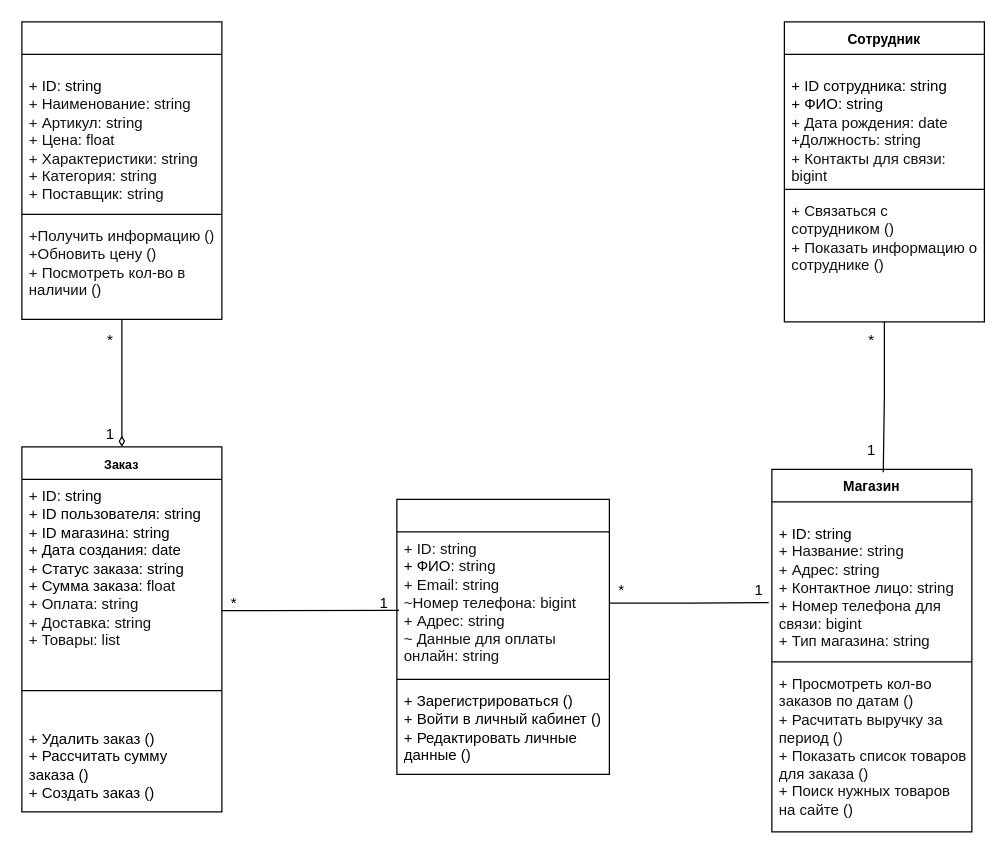
The diagram is 1006 pixels wide and 858 high, and some of its shapes have lost their labels. The box of each missing label's shape, as (x1, y1, x2, y2) in pixels:
Пользователь сайта: (396, 498, 609, 774)
Товар: (21, 21, 222, 319)
